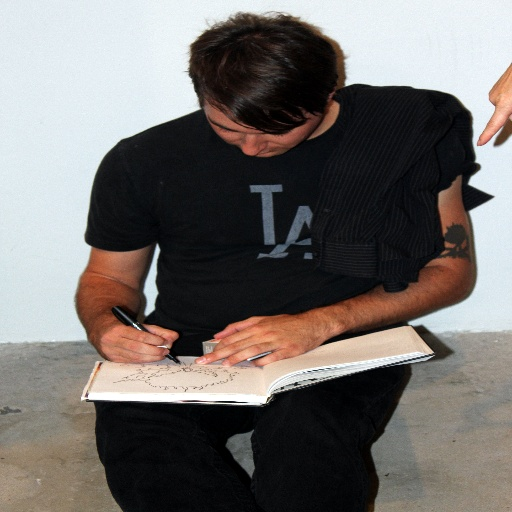hand: (198, 307, 357, 368), (93, 320, 178, 363), (476, 63, 511, 145)
